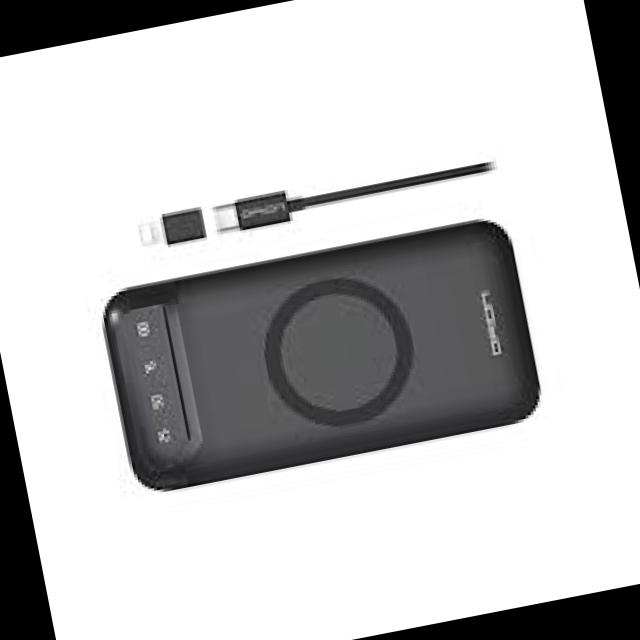portable-charger: (94, 208, 548, 501)
